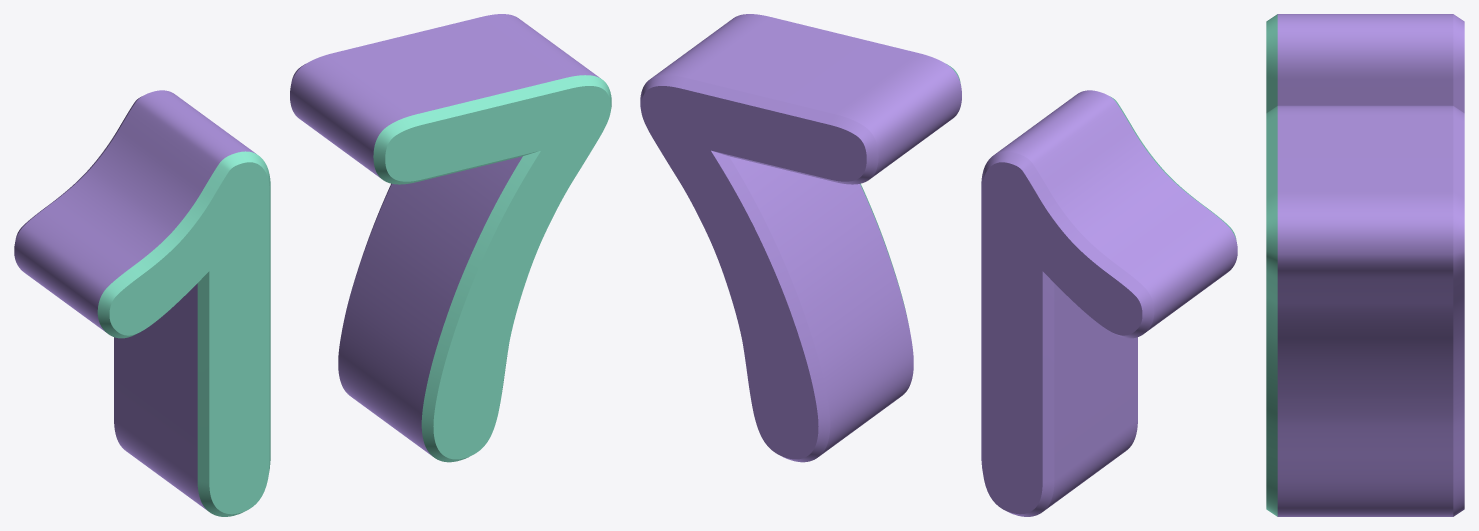
The picture shows the model from 3 angles, left to right: view 1: azimuth 30°, elevation 25°; view 2: azimuth 150°, elevation 25°; view 3: azimuth 270°, elevation 25°; orthographic projection. The views are drawn at different scales.
Visible parts, largest first — view 1: Text.018; view 2: Text.018; view 3: Text.018.
Part boxes in pixels (x1,y1,x2,y2): Text.018: [14, 14, 611, 516]; Text.018: [640, 14, 1237, 516]; Text.018: [1266, 14, 1464, 516].
Bounding box in the file's own units: 244 × 164 × 77.6.
